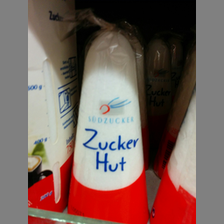sugar: (65, 24, 152, 223)
